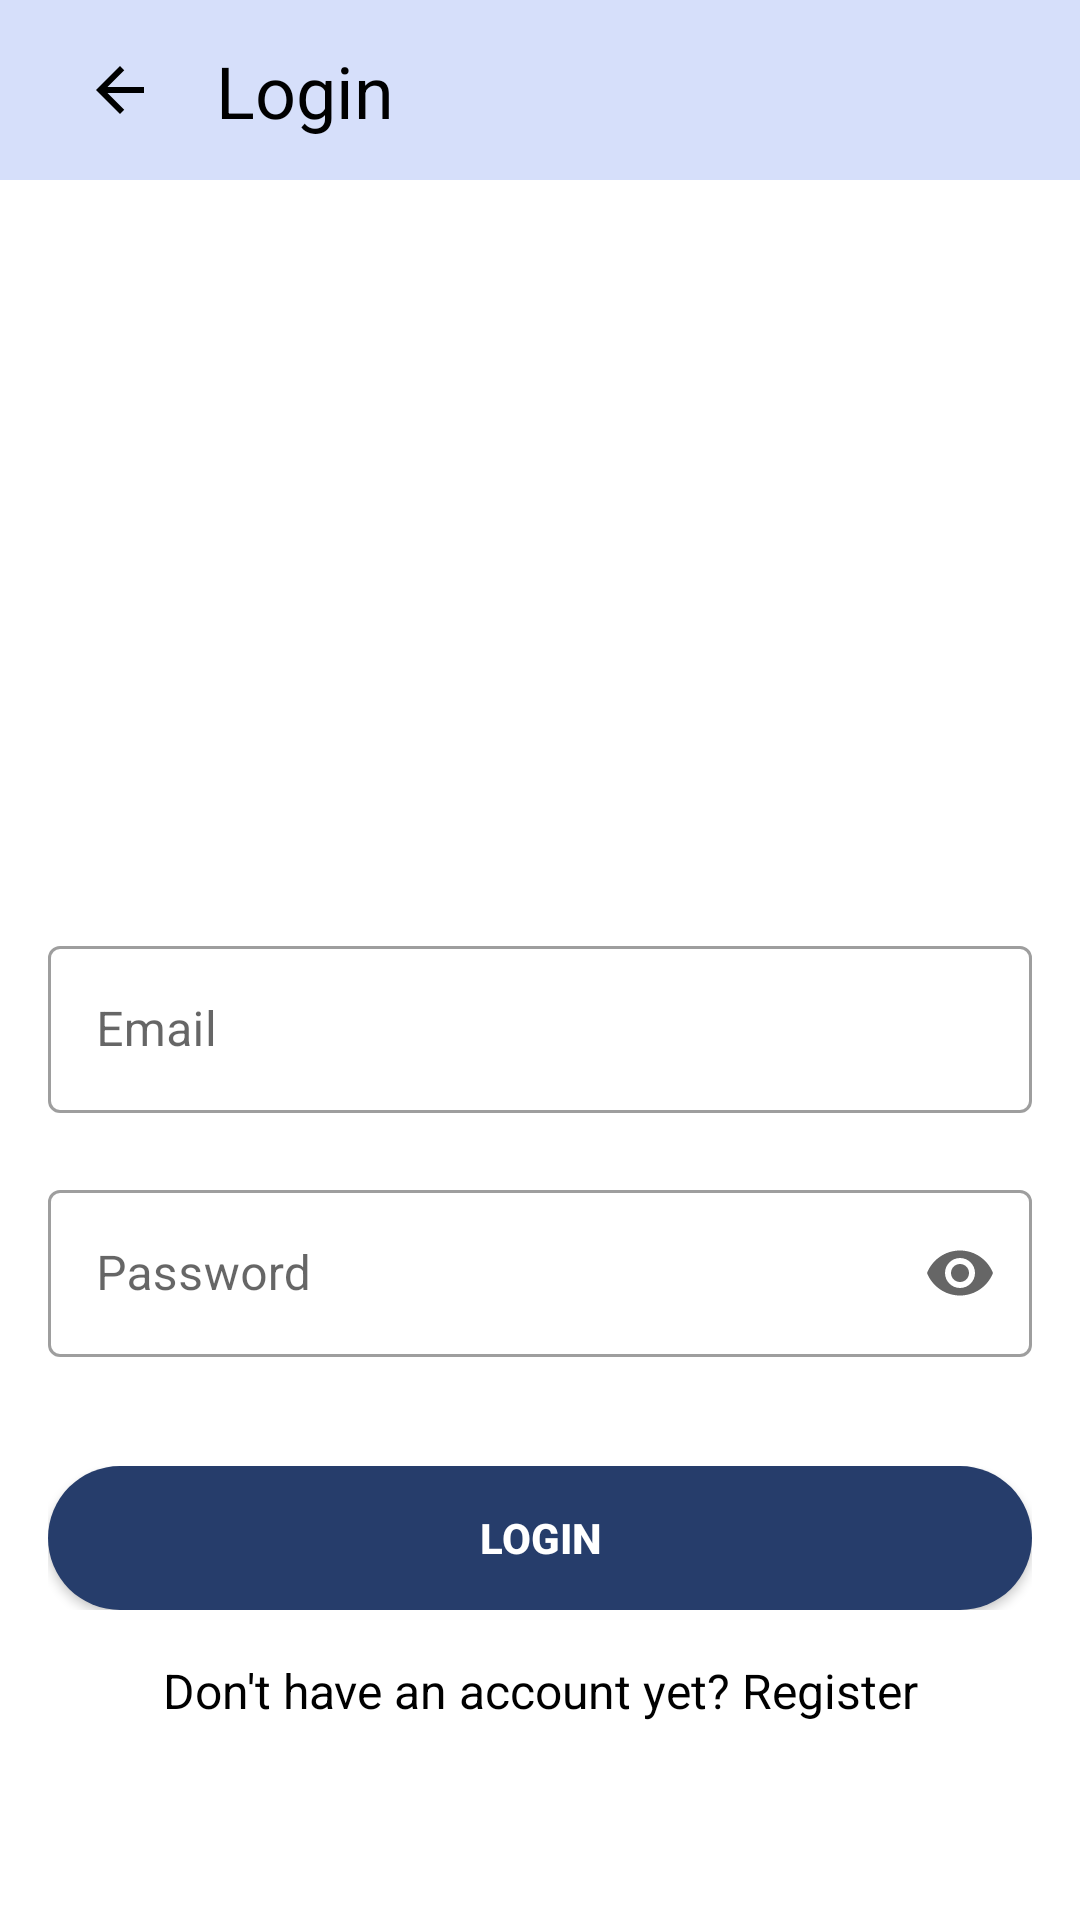

Where icons sit on this 1080px×1920px app screen, as (x1, y1, x2, y2):
arrow back: (96, 66, 144, 114)
